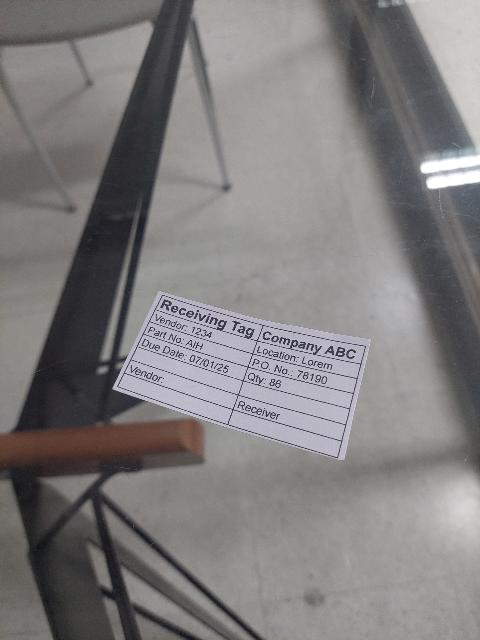PO no: (248, 354, 357, 394)
part no: (144, 322, 253, 368)
qty: (243, 367, 354, 410)
tags: (112, 292, 371, 463)
